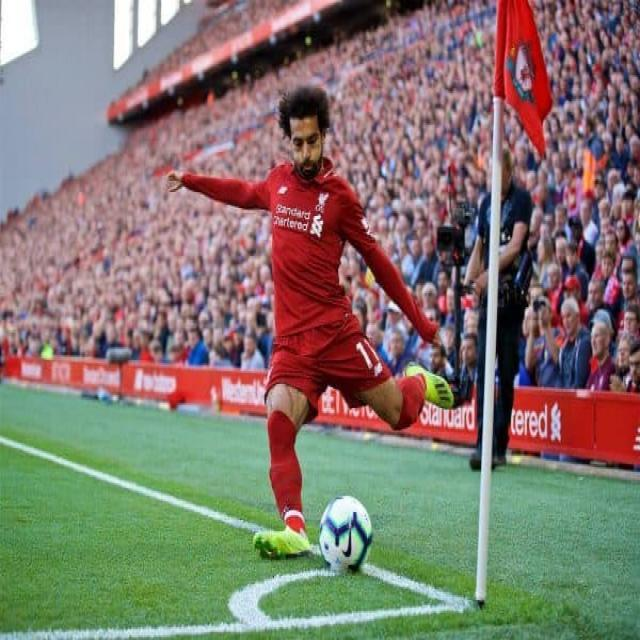Standard Chartered: (419, 395, 562, 442), (274, 201, 324, 238)
